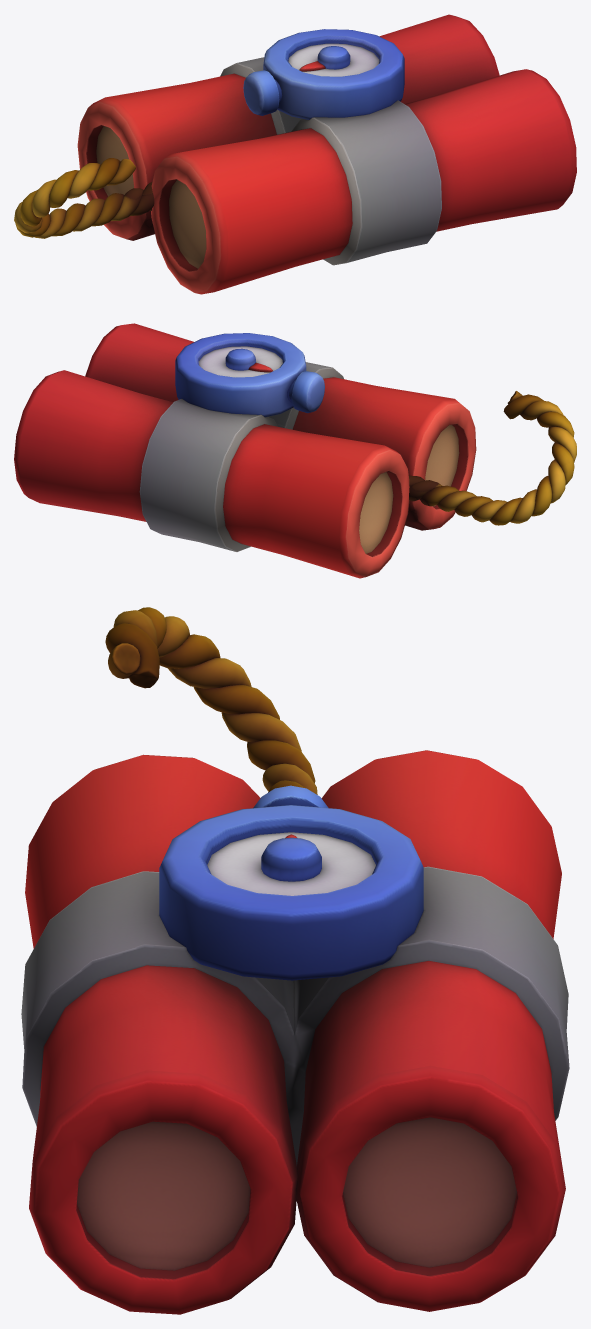
Rendered from Dynamite.fbx.
3 views of the same model, one above another, from view 1: azimuth 30°, elevation 25°; view 2: azimuth 150°, elevation 25°; view 3: azimuth 270°, elevation 25° (orthographic). The views are drawn at different scales.
Visible parts, largest first — view 1: Body, Rope; view 2: Body, Rope; view 3: Body, Rope.
Boxes of the visible parts, <box> form: Body: <box>77,14,576,294</box>; Rope: <box>14,158,154,238</box>; Body: <box>14,323,476,578</box>; Rope: <box>408,391,576,525</box>; Body: <box>21,750,569,1314</box>; Rope: <box>105,607,317,794</box>.
Size of the model in its own units: 16.87 by 5.47 by 8.44.
1 material, 1 textured.
